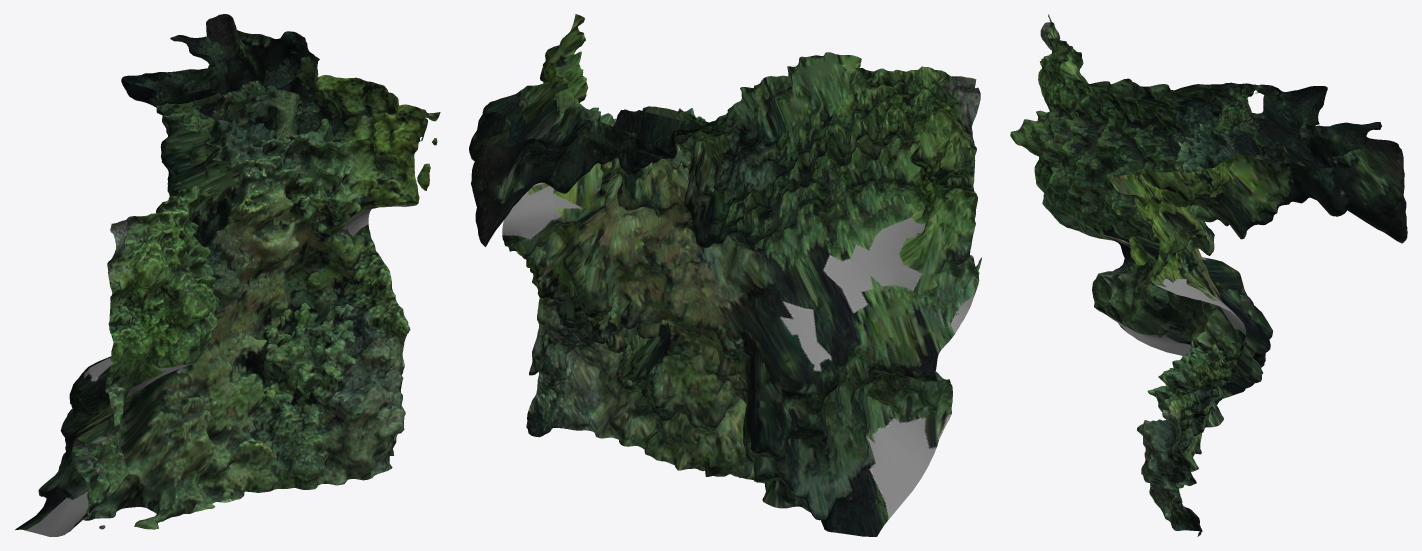
File: Tile_+009_+003.fbx
3 views of the same model, side by side, from view 1: azimuth 30°, elevation 25°; view 2: azimuth 150°, elevation 25°; view 3: azimuth 270°, elevation 25° (orthographic). The views are drawn at different scales.
Parts seen in each view (by area): view 1: DefaultName; view 2: DefaultName; view 3: DefaultName.
Boxes of the visible parts, bbox=[...] form: DefaultName: bbox=[15, 14, 440, 536]; DefaultName: bbox=[469, 14, 981, 536]; DefaultName: bbox=[1010, 14, 1407, 536].
Size of the model in its own units: 22.54 by 22.54 by 22.75.
